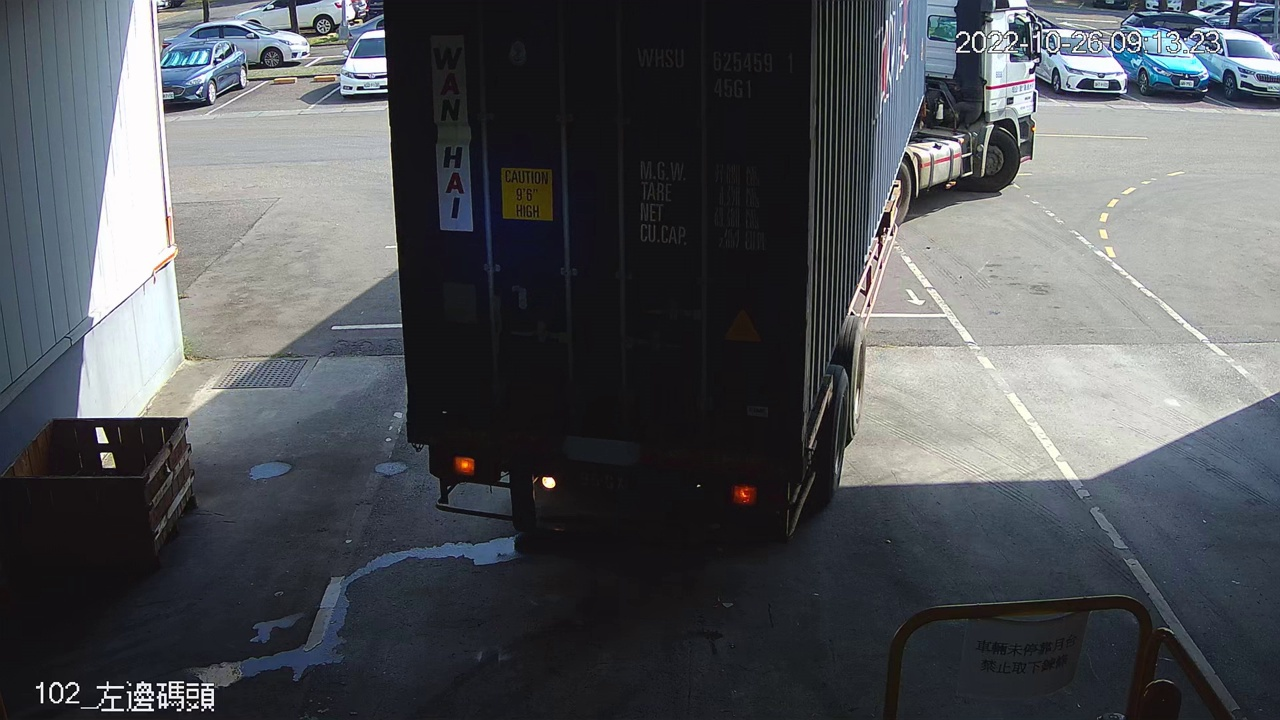container: (629, 35, 802, 107)
